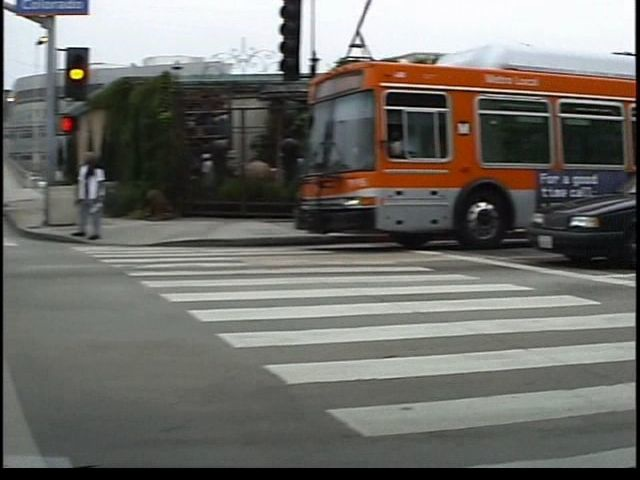person: (85, 149, 124, 247)
